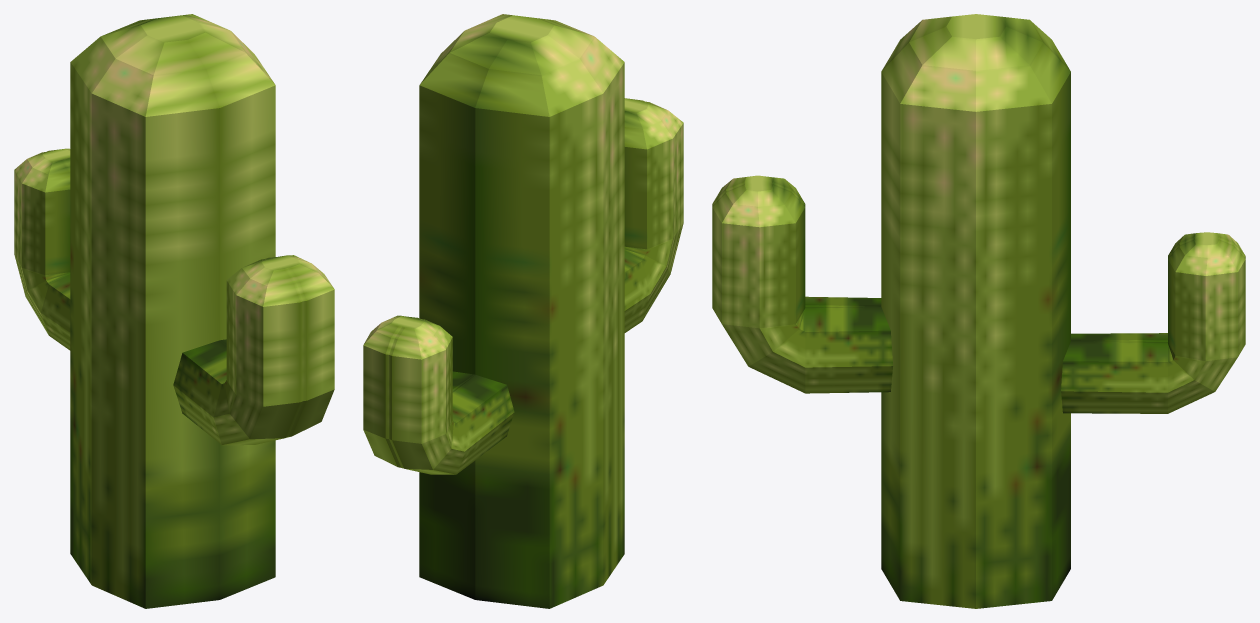
Rendered from Poly_Cactus_01.obj.
3 renders of one model, left to right at view 1: azimuth 30°, elevation 25°; view 2: azimuth 150°, elevation 25°; view 3: azimuth 270°, elevation 25°, orthographic.
Parts seen in each view (by area): view 1: Cube, Cube.001, Cube.003; view 2: Cube, Cube.003, Cube.001; view 3: Cube, Cube.001, Cube.003.
Boxes of the visible parts, left/top/right/bottom form: Cube: left=70, top=14, right=275, bottom=608; Cube.001: left=173, top=255, right=334, bottom=445; Cube.003: left=14, top=148, right=70, bottom=350; Cube: left=419, top=14, right=624, bottom=608; Cube.003: left=363, top=315, right=514, bottom=474; Cube.001: left=624, top=98, right=683, bottom=332; Cube: left=881, top=14, right=1070, bottom=608; Cube.001: left=712, top=175, right=892, bottom=393; Cube.003: left=1061, top=232, right=1245, bottom=413.
Bounding box in the file's own units: 0.313 × 0.9868 × 0.8796.
Materials: 1 (1 with a texture image).
